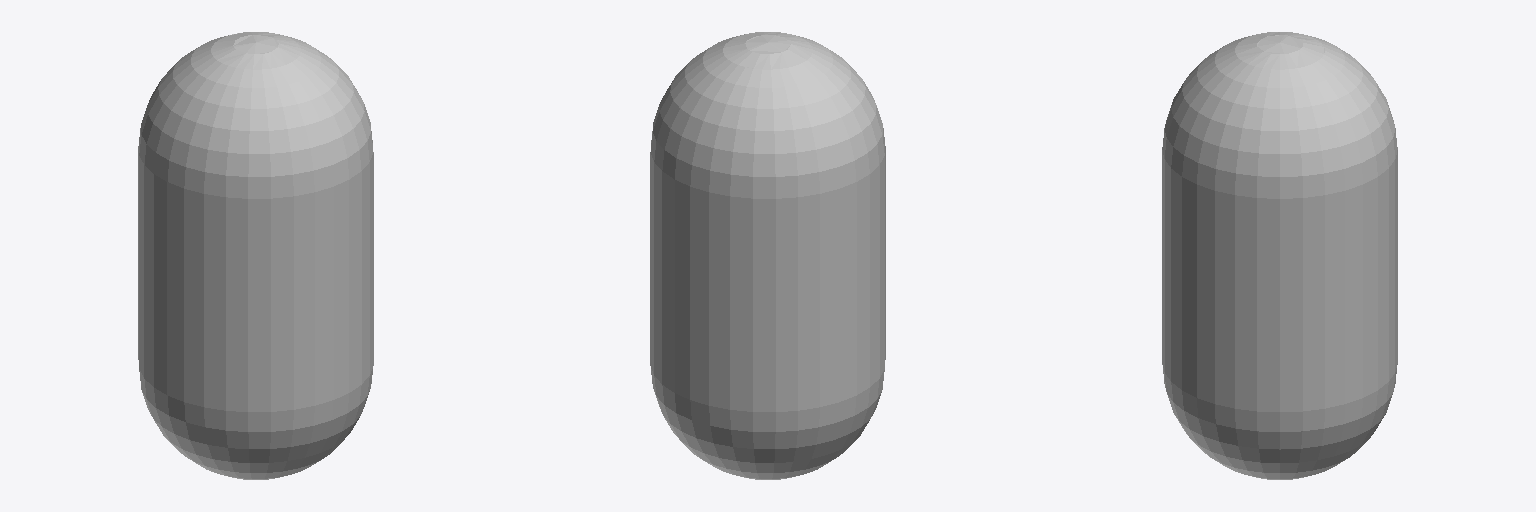
Rendered from CGFinalWario.obj.
3 renders of one model, left to right at view 1: azimuth 30°, elevation 25°; view 2: azimuth 150°, elevation 25°; view 3: azimuth 270°, elevation 25°, orthographic.
Parts seen in each view (by area): view 1: Cylinder; view 2: Cylinder; view 3: Cylinder.
Part boxes in pixels (x1,y1,x2,y2): Cylinder: (138, 32, 373, 479); Cylinder: (650, 32, 885, 479); Cylinder: (1162, 32, 1397, 479).
Bounding box in the file's own units: 2 × 4 × 2.